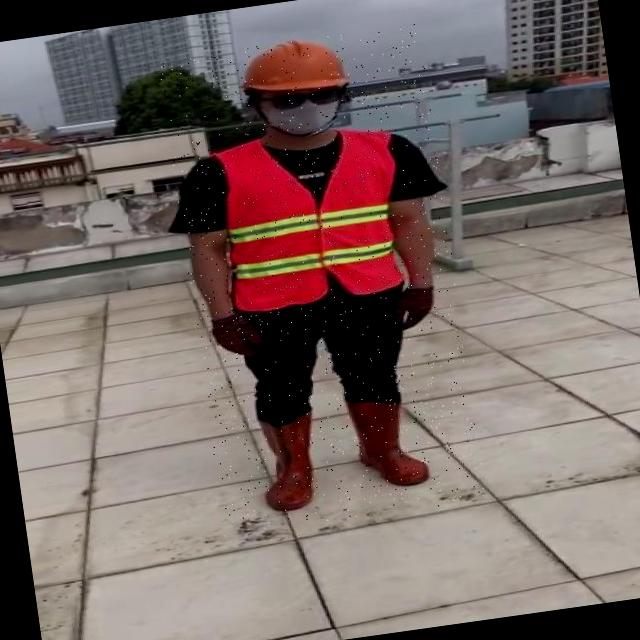boots: (350, 392, 432, 493), (253, 409, 328, 514)
gloves: (209, 288, 278, 368), (390, 271, 452, 342)
helmet: (236, 34, 360, 100)
vest: (212, 123, 410, 316)
